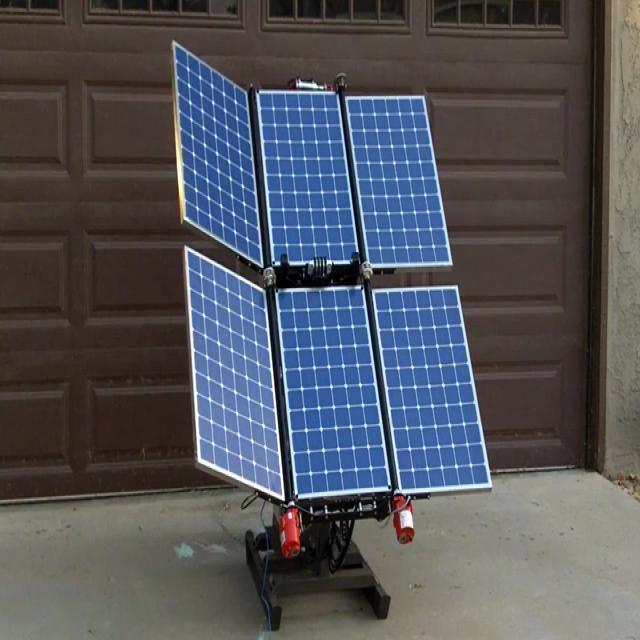Normal Solar Panel: (187, 247, 284, 501), (278, 287, 391, 500), (375, 289, 491, 495), (173, 41, 262, 267), (347, 97, 452, 268), (258, 91, 358, 262)
